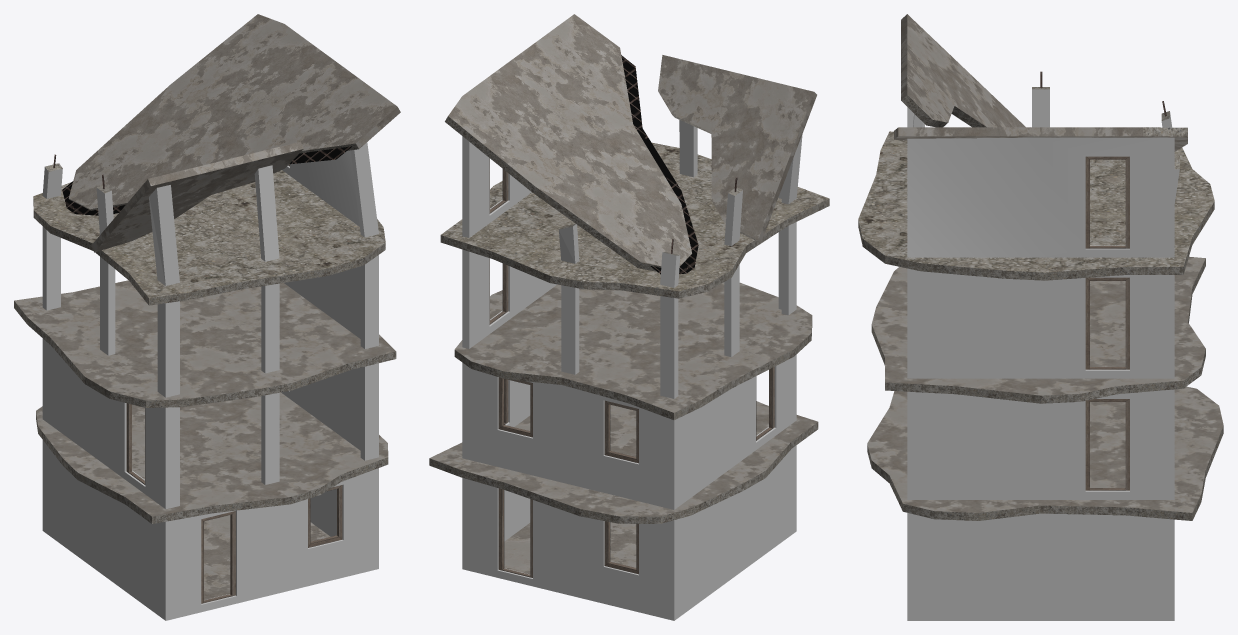
The model's file is Construction_B_Destroyed.fbx.
The picture shows the model from 3 angles, left to right: view 1: azimuth 30°, elevation 25°; view 2: azimuth 150°, elevation 25°; view 3: azimuth 270°, elevation 25°; orthographic projection. The views are drawn at different scales.
Visible parts, largest first — view 1: Walls_Pillars, Floors_Center, Rooftop, Floor_Top, Broken_Concrete, Floor_Ground, Windows, Rebar; view 2: Walls_Pillars, Rooftop, Floors_Center, Floor_Top, Broken_Concrete, Windows, Floor_Ground, Rebar; view 3: Walls_Pillars, Floors_Center, Floor_Top, Broken_Concrete, Rooftop, Windows.
Boxes of the visible parts, <box> form: Walls_Pillars: <box>42,142,378,620</box>; Floors_Center: <box>14,280,395,516</box>; Rooftop: <box>69,14,400,252</box>; Floor_Top: <box>33,170,385,298</box>; Broken_Concrete: <box>14,143,396,523</box>; Floor_Ground: <box>204,515,330,599</box>; Windows: <box>126,164,342,603</box>; Rebar: <box>62,146,351,215</box>; Walls_Pillars: <box>462,120,802,620</box>; Rooftop: <box>448,14,816,266</box>; Floors_Center: <box>430,282,817,516</box>; Floor_Top: <box>441,142,828,291</box>; Broken_Concrete: <box>429,115,829,523</box>; Windows: <box>489,158,774,577</box>; Floor_Ground: <box>504,522,636,574</box>; Rebar: <box>621,55,698,274</box>; Walls_Pillars: <box>907,89,1179,620</box>; Floors_Center: <box>867,256,1223,512</box>; Floor_Top: <box>858,131,1214,272</box>; Broken_Concrete: <box>858,87,1223,520</box>; Rooftop: <box>894,14,1187,151</box>; Windows: <box>1085,156,1129,490</box>.
Bounding box in the file's own units: 800 × 1241 × 820.
